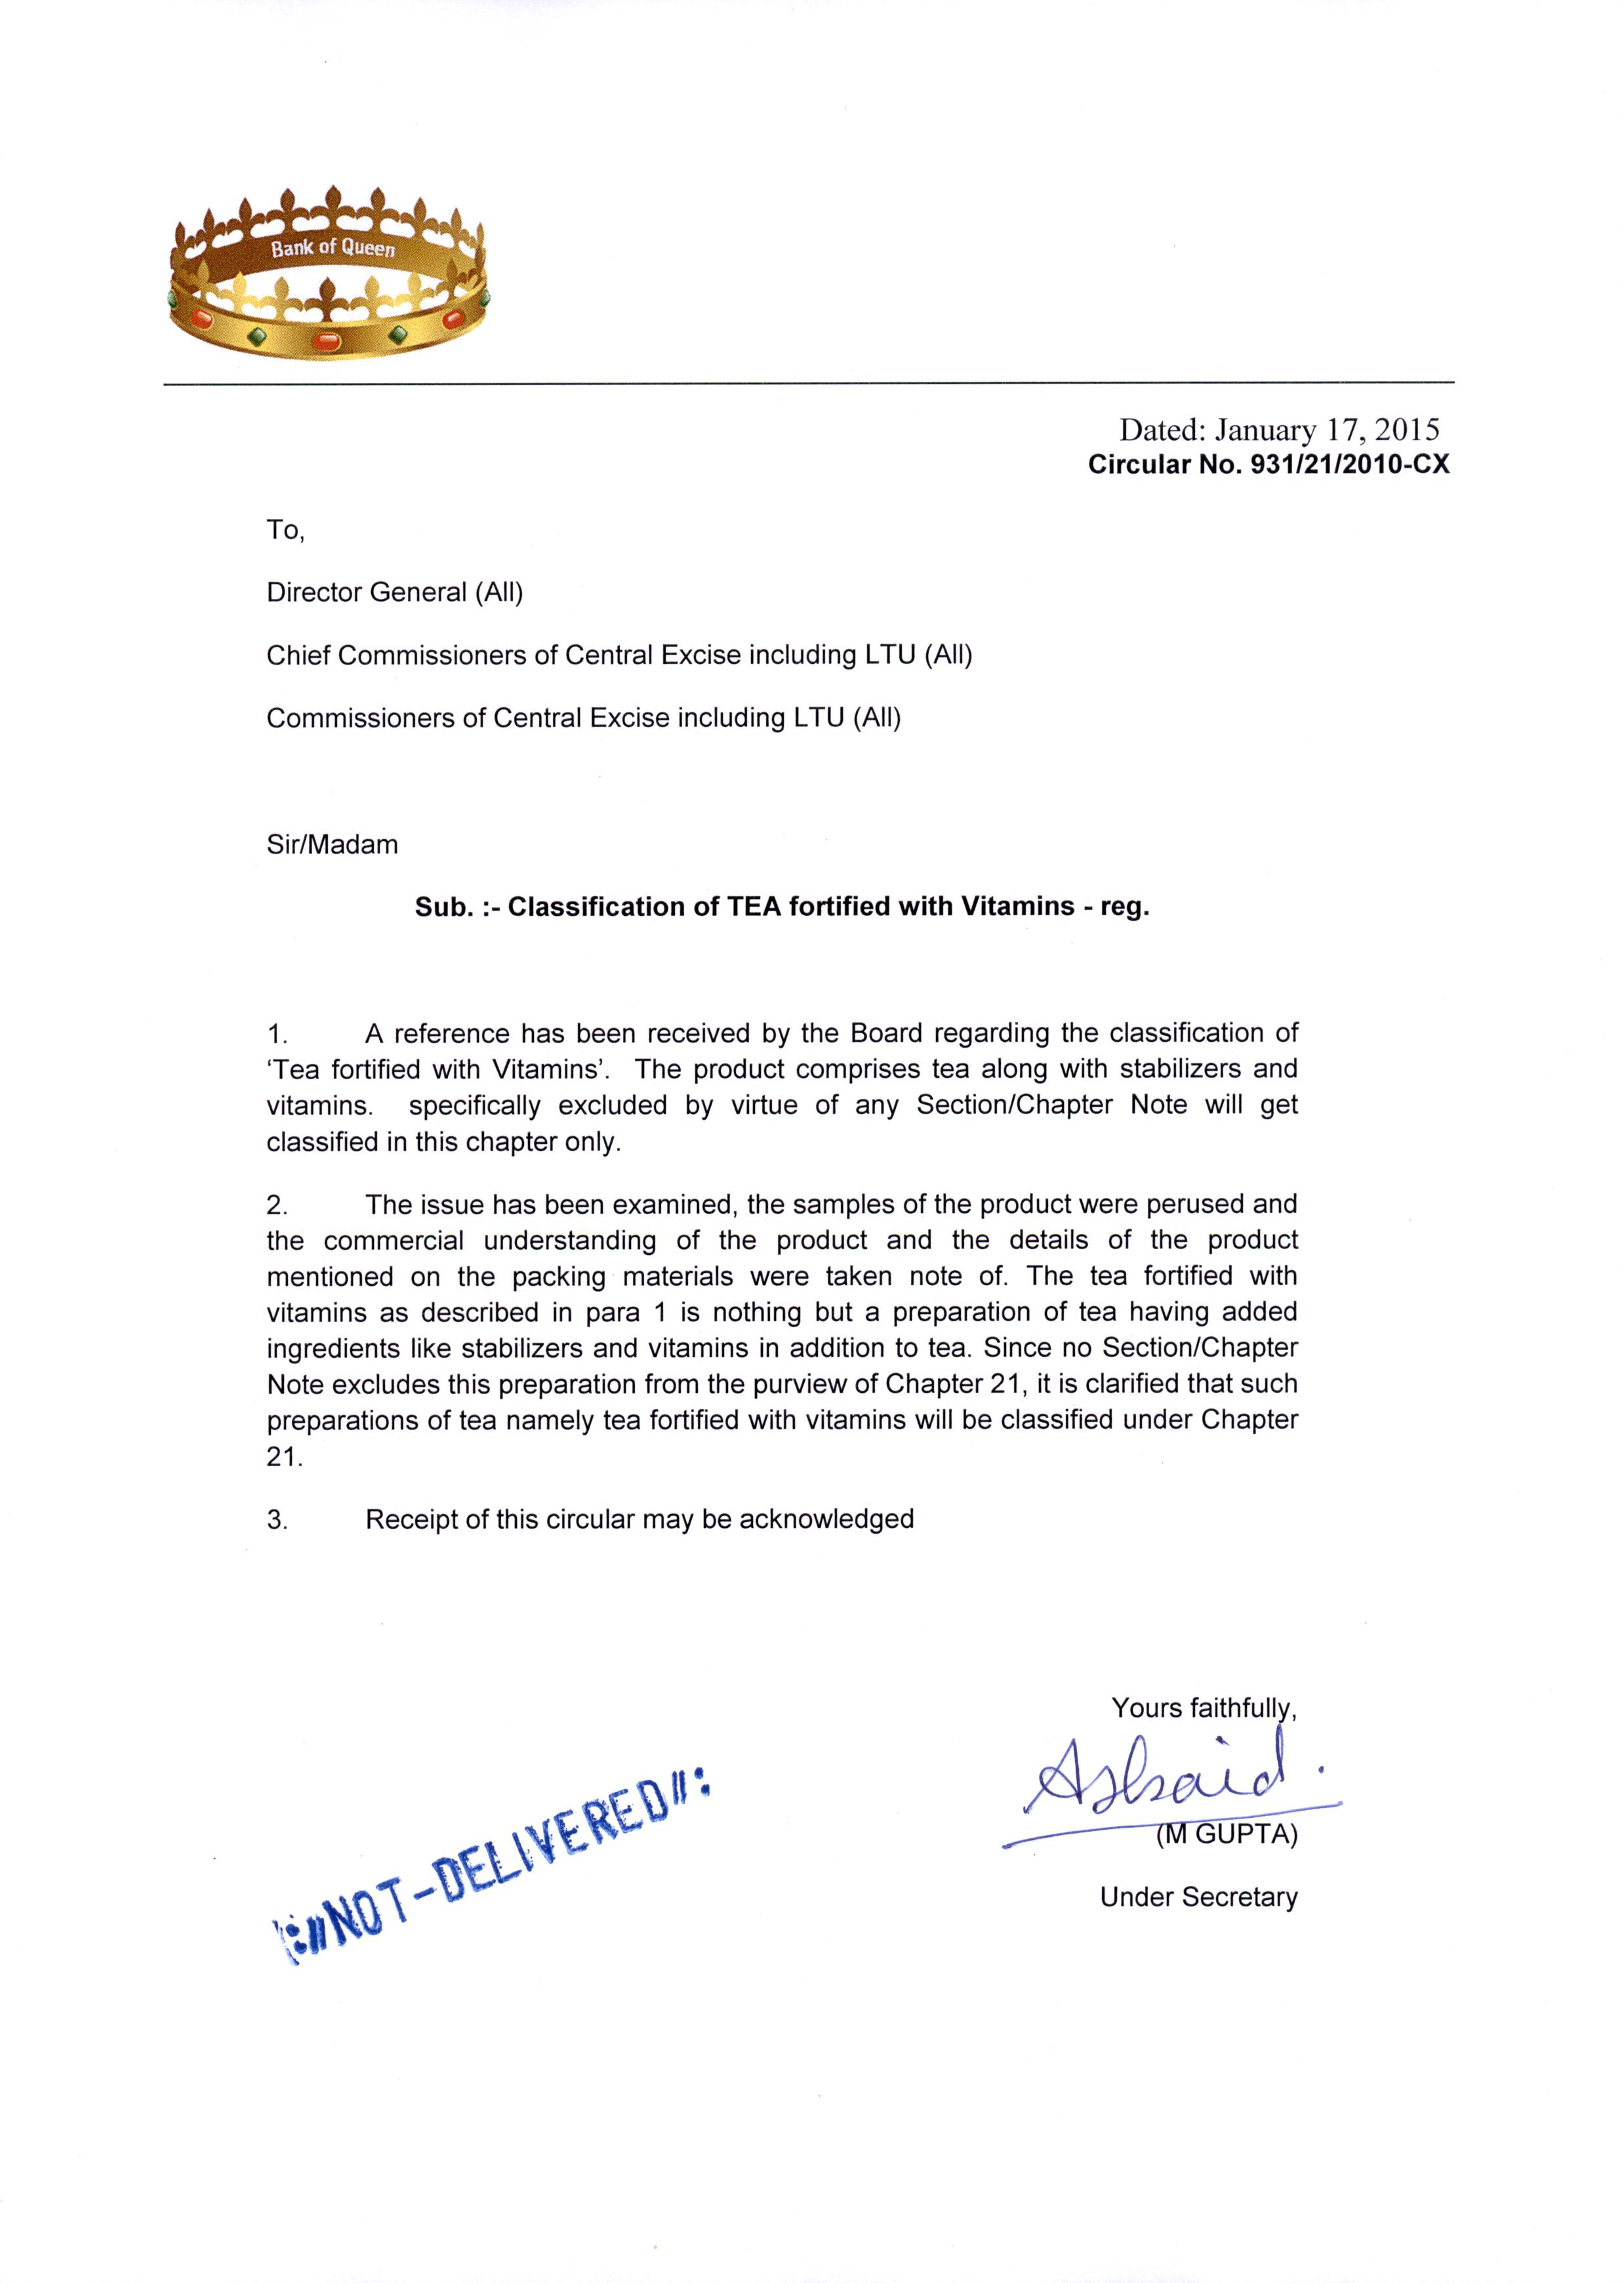Signature: (1000, 1719, 1345, 1819)
